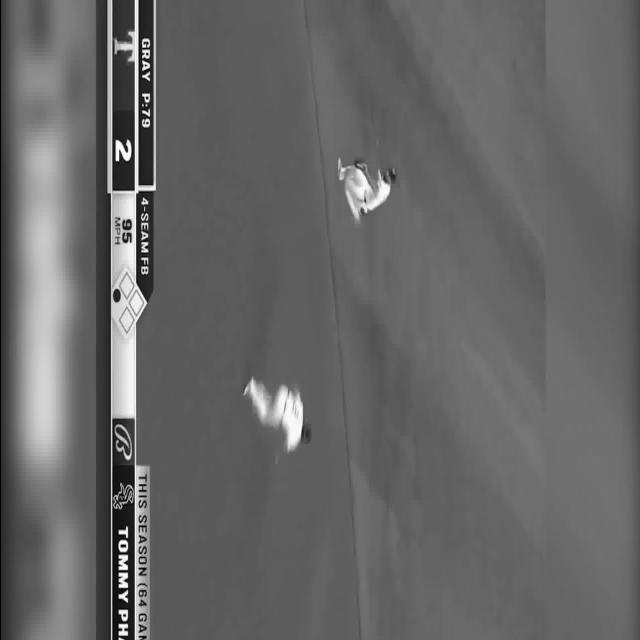baseball_glove: (354, 159, 367, 173)
shoe: (242, 376, 254, 396), (337, 157, 342, 180), (360, 206, 368, 216)
